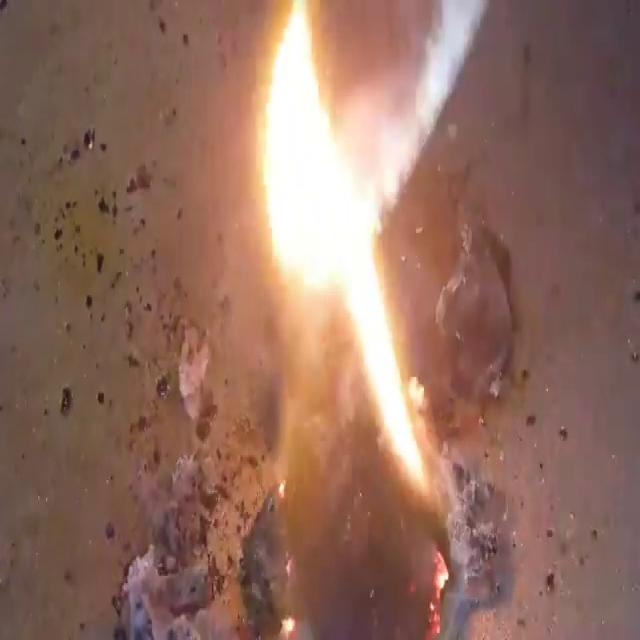Fire: (253, 5, 437, 507)
